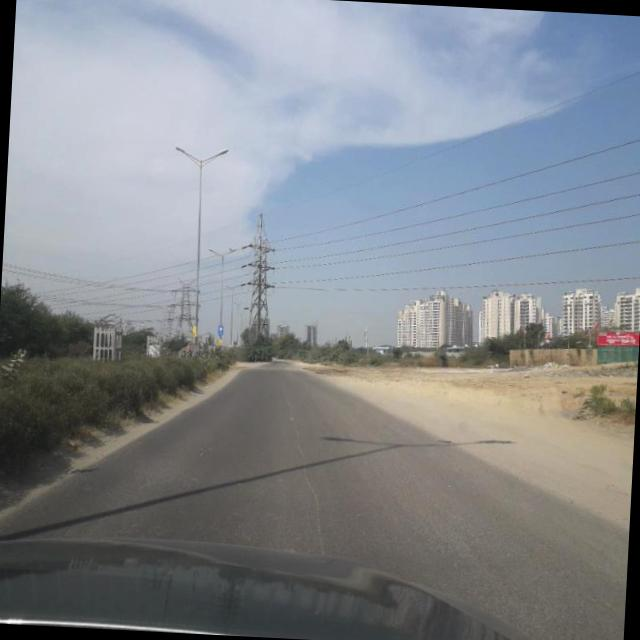pothole: (274, 362, 348, 553)
